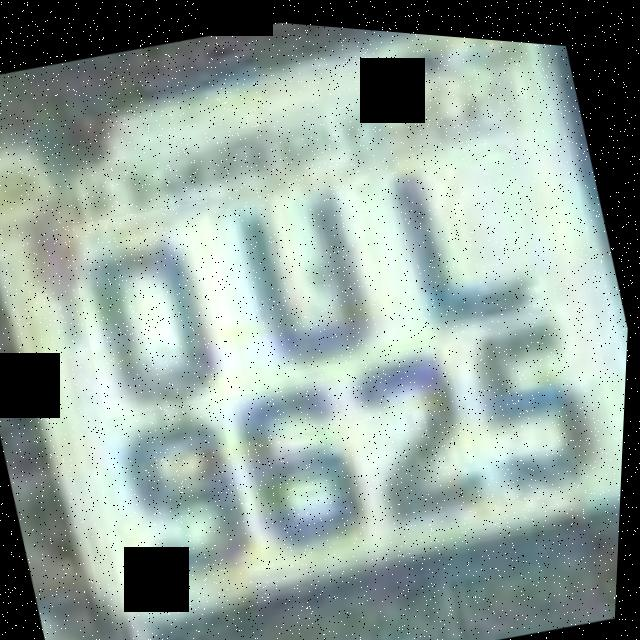2: (314, 313, 520, 545)
5: (428, 278, 631, 512)
6: (181, 336, 409, 582)
9: (76, 363, 281, 602)
J: (369, 128, 566, 357)
O: (59, 188, 257, 426)
U: (197, 140, 429, 400)
